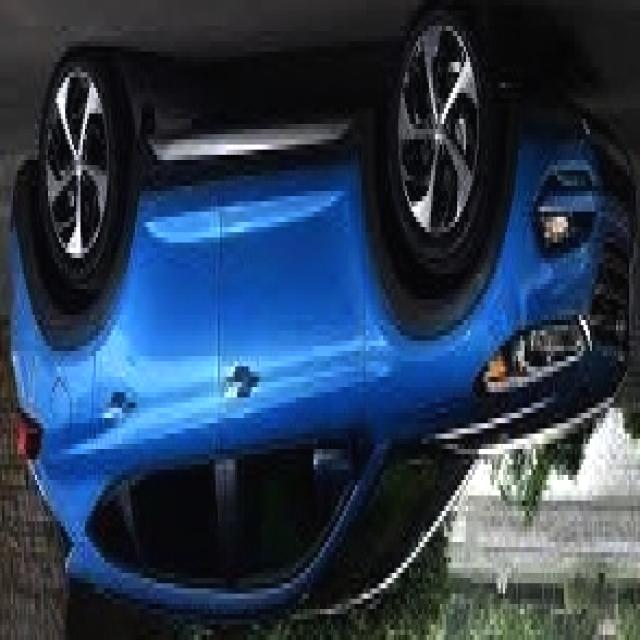blue: (0, 0, 635, 625)
